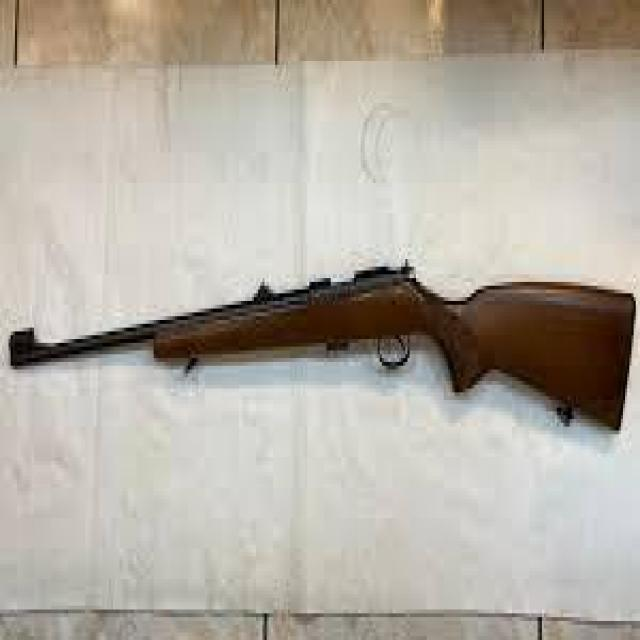weapon: (7, 257, 637, 436)
